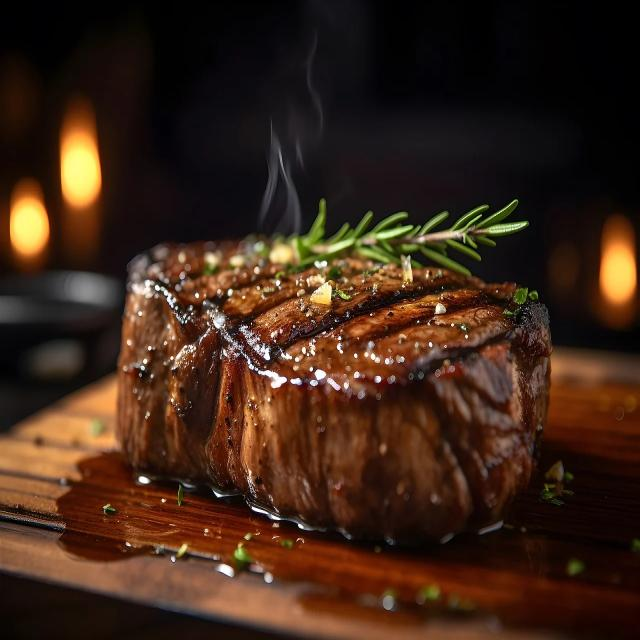Carne: (115, 219, 553, 546)
